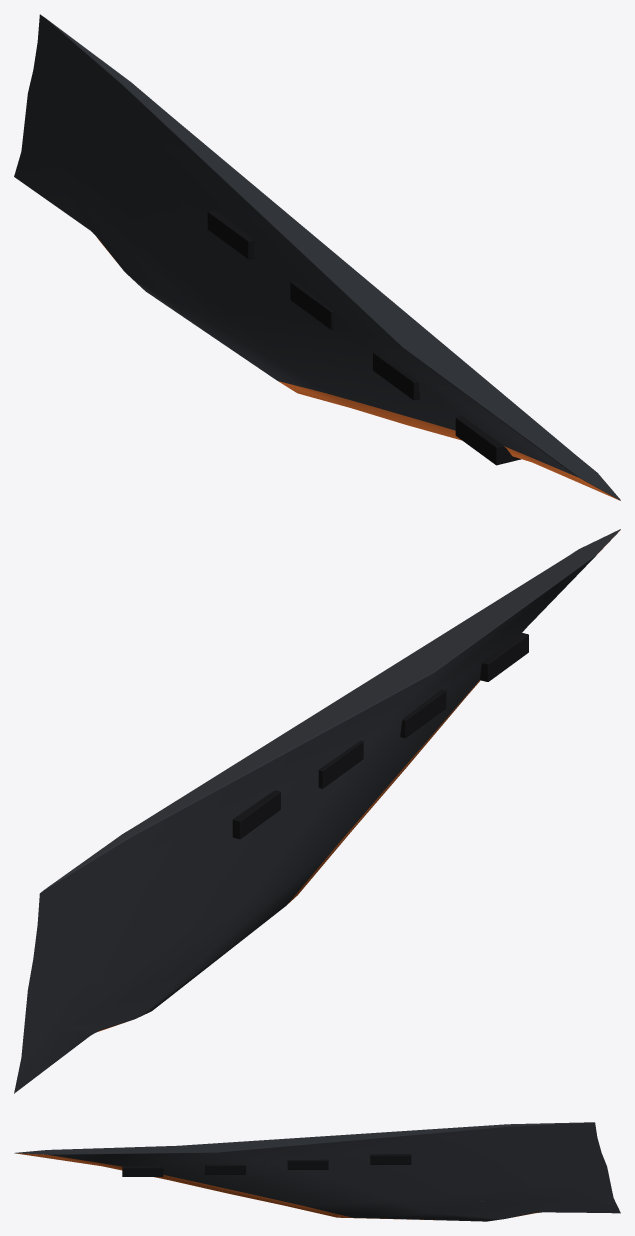
The model's file is bastion_tail_keel.fbx.
3 views of the same model, one above another, from view 1: azimuth 30°, elevation 25°; view 2: azimuth 150°, elevation 25°; view 3: azimuth 270°, elevation 25° (orthographic). The views are drawn at different scales.
Parts seen in each view (by area): view 1: Tail_Keel; view 2: Tail_Keel; view 3: Tail_Keel.
Part boxes in pixels (box(x1,y1,x2,y2)): Tail_Keel: box(14, 14, 620, 500); Tail_Keel: box(14, 529, 620, 1093); Tail_Keel: box(14, 1122, 620, 1221).
Size of the model in its own units: 5.6 by 31.97 by 178.
